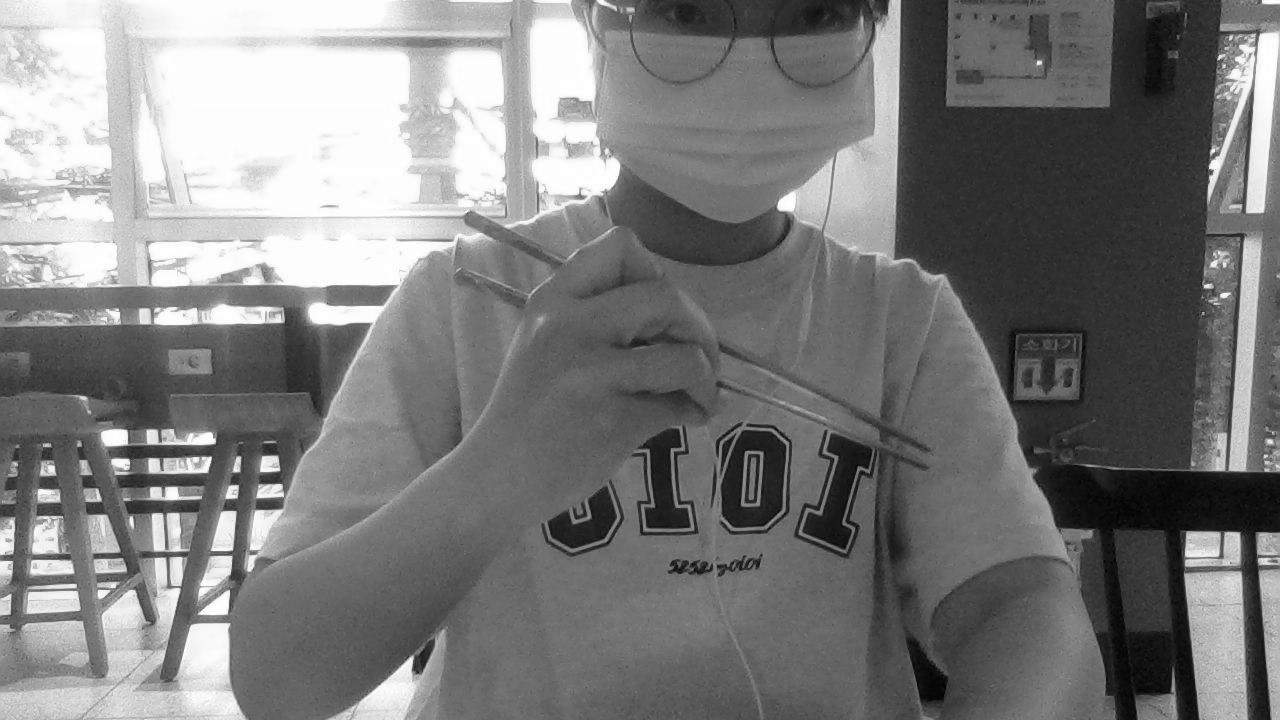chopstick: (460, 210, 934, 456), (450, 267, 934, 476)
hand: (479, 226, 722, 516)
